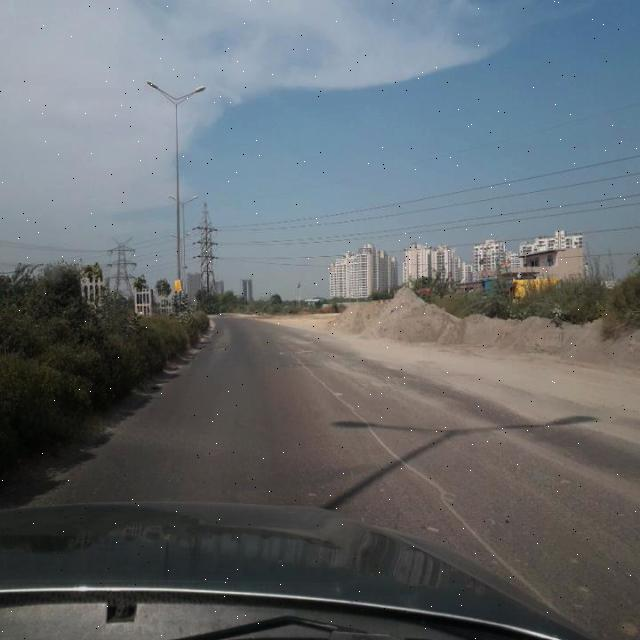D00: (277, 342, 562, 610)
D40: (300, 341, 407, 401)
